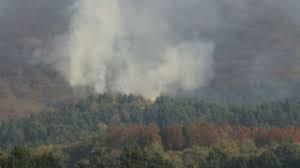smoke: (54, 1, 217, 103)
